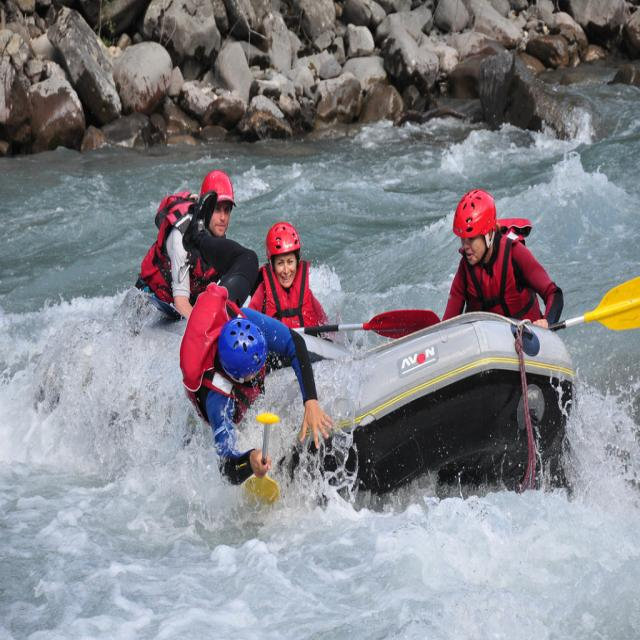Boat: (199, 290, 589, 495)
